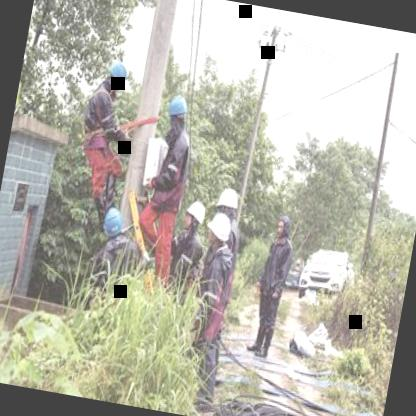helmet: (162, 90, 194, 138), (214, 183, 245, 226), (204, 206, 234, 247), (179, 198, 207, 240), (101, 58, 128, 100), (100, 204, 128, 244)
